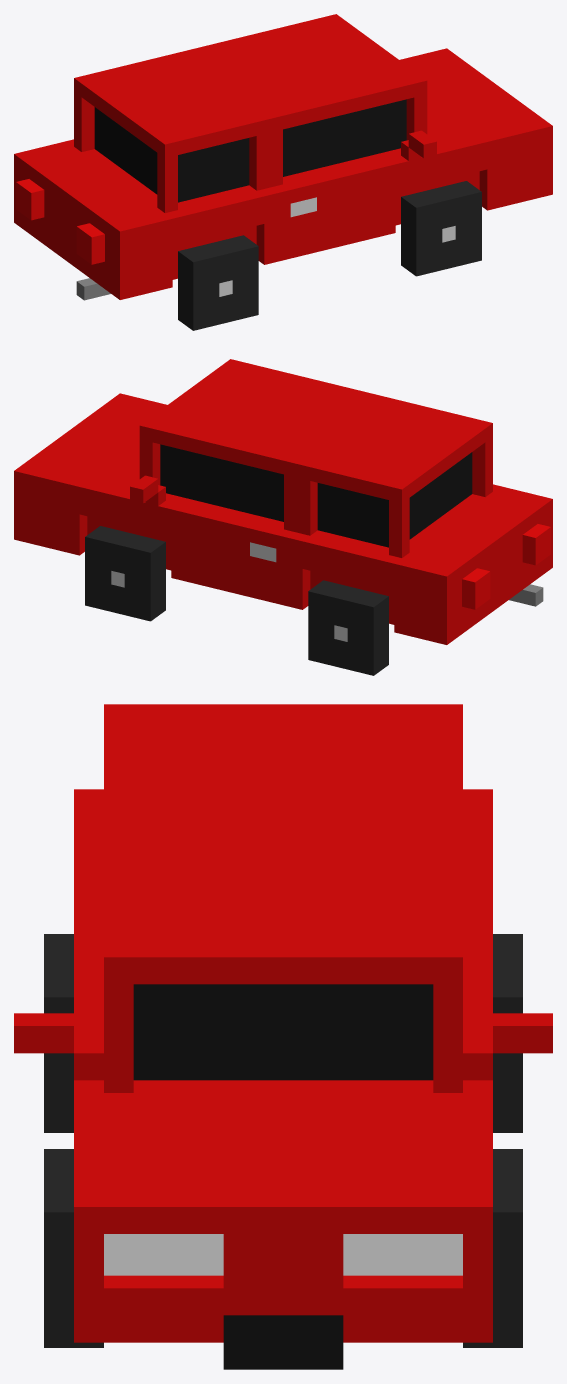
Rendered from carroVermelho.obj.
3 views of the same model, one above another, from view 1: azimuth 30°, elevation 25°; view 2: azimuth 150°, elevation 25°; view 3: azimuth 270°, elevation 25° (orthographic). The views are drawn at different scales.
Bounding box in the file's own units: 34 × 13 × 18.
1 material, 1 textured.
